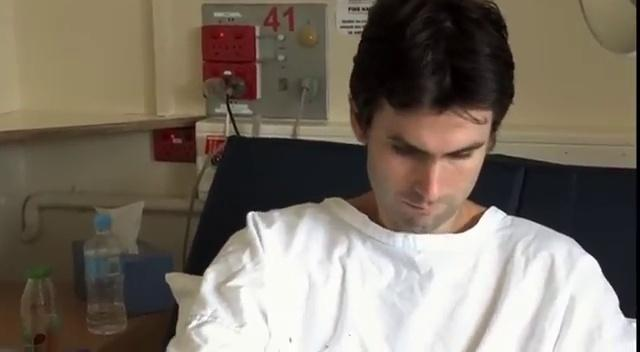patient: (164, 0, 636, 350)
